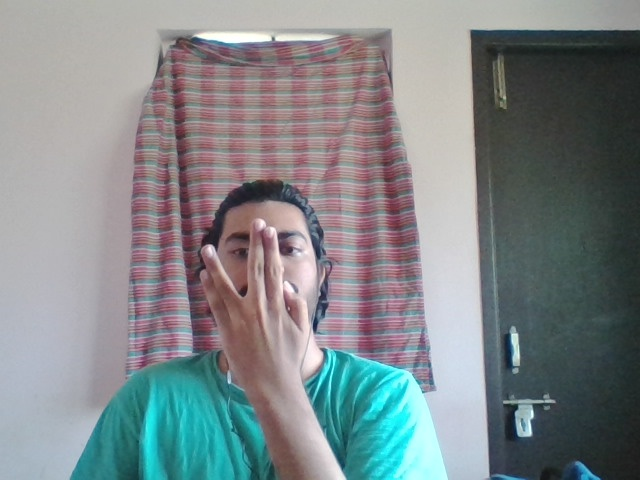LiveLong: (199, 219, 309, 402)
